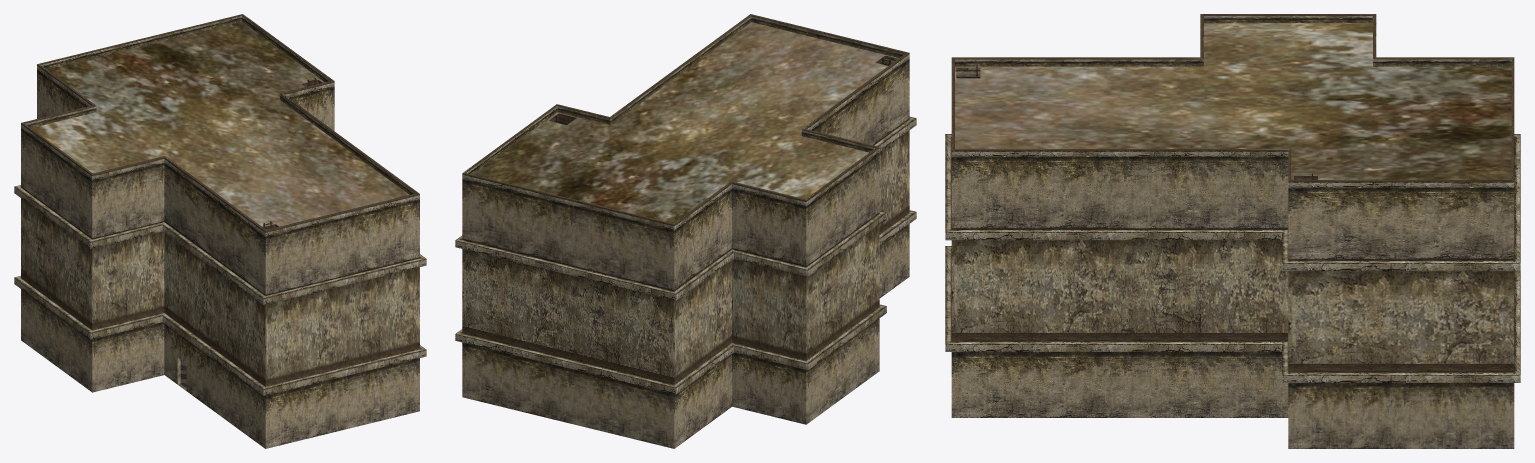
Rendered from Rdiobld1.glb.
3 views of the same model, side by side, from view 1: azimuth 30°, elevation 25°; view 2: azimuth 150°, elevation 25°; view 3: azimuth 270°, elevation 25° (orthographic). The views are drawn at different scales.
Parts seen in each view (by area): view 1: _Rdiobld1; view 2: _Rdiobld1; view 3: _Rdiobld1.
Boxes of the visible parts, bbox=[...] form: _Rdiobld1: bbox=[14, 14, 426, 448]; _Rdiobld1: bbox=[455, 14, 916, 448]; _Rdiobld1: bbox=[945, 14, 1520, 448].
Size of the model in its own units: 27.85 by 20.5 by 39.29.
Materials: 9 (9 with a texture image).
